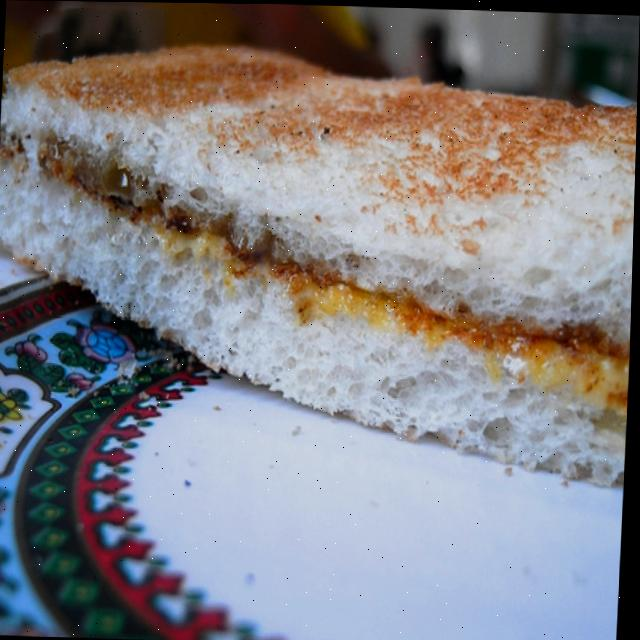面包点心: (0, 46, 639, 640)
